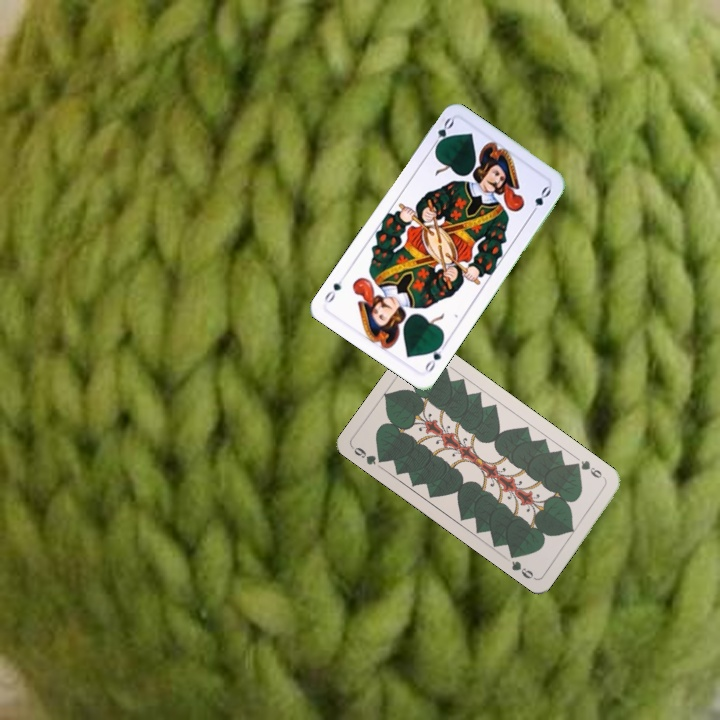G9: (570, 456, 608, 483), (349, 443, 388, 467)
GO: (427, 114, 457, 153), (421, 338, 449, 375)
